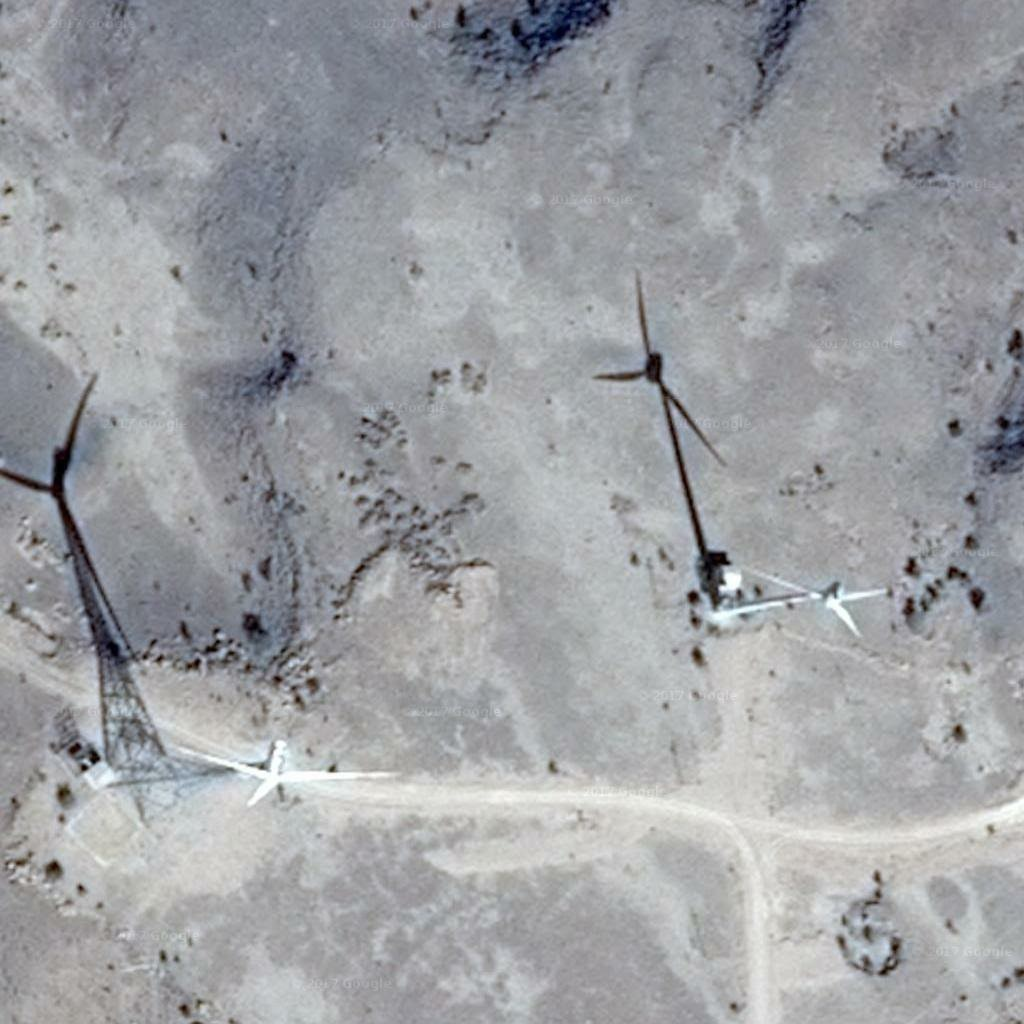Windmill: (600, 269, 729, 566)
